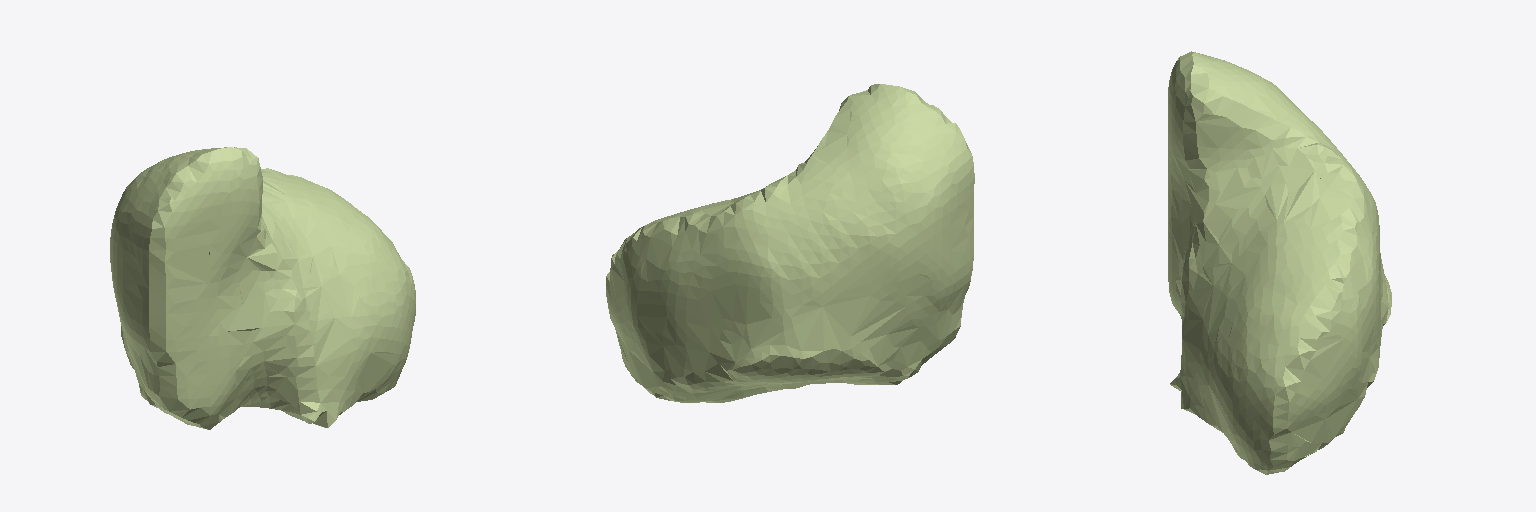
Rendered from Model_228_RH__Accumbens_nucleus__core_(AcbC).obj.
3 renders of one model, left to right at view 1: azimuth 30°, elevation 25°; view 2: azimuth 150°, elevation 25°; view 3: azimuth 270°, elevation 25°, orthographic.
Bounding box in the file's own units: 2.59 × 2.49 × 1.59.